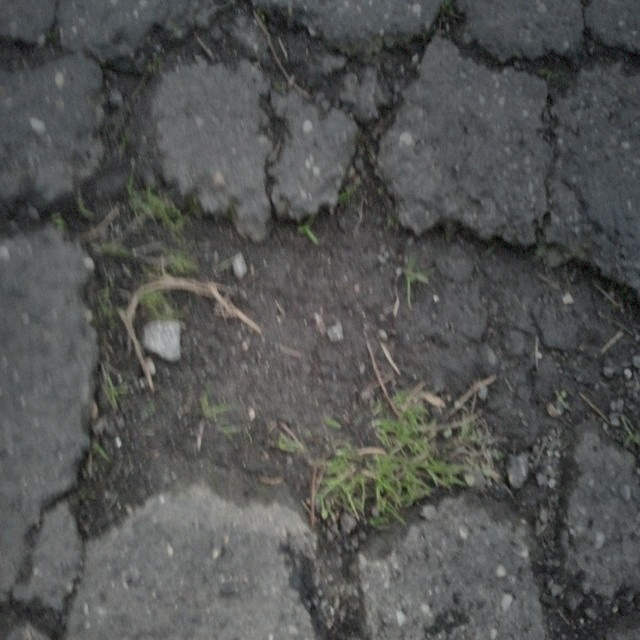pothole: (65, 133, 603, 563)
